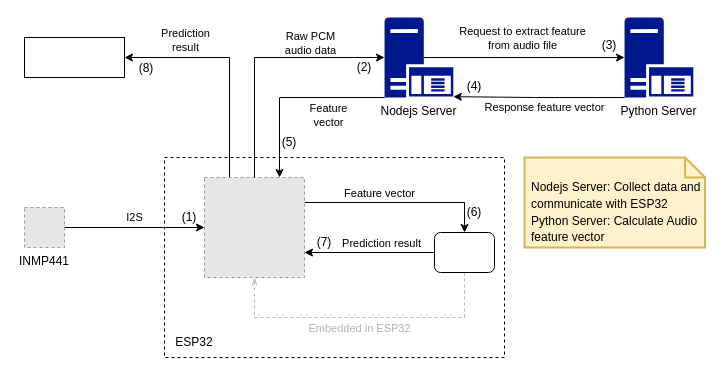
This 723x375 diagram has some shape labels left out. Grey dashed boxes stand in for pictures. Each missing label, with the centre of its shape:
CNN 1D Model: point (464, 252)
Web app UI: point (74, 57)
